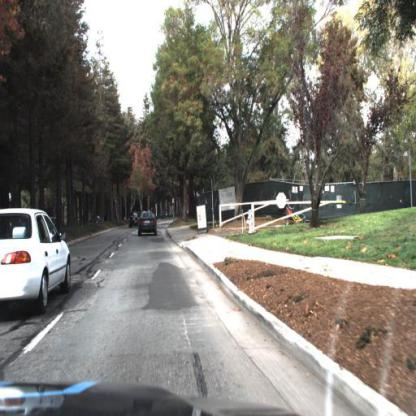car: (1, 189, 72, 314), (139, 211, 158, 237), (130, 214, 139, 230), (91, 216, 103, 224)
